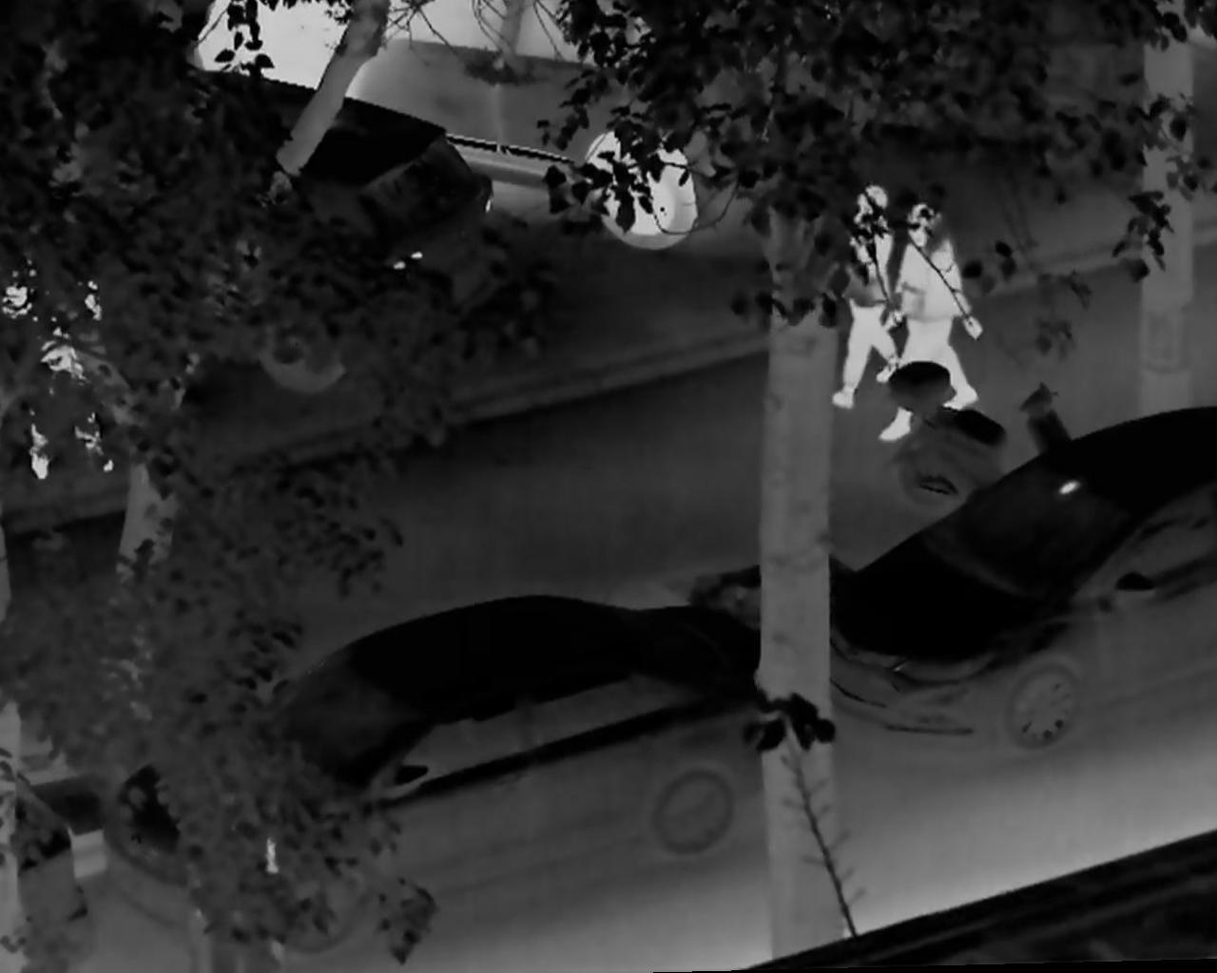person: (4, 211, 119, 487), (874, 207, 985, 448), (823, 179, 900, 413)
